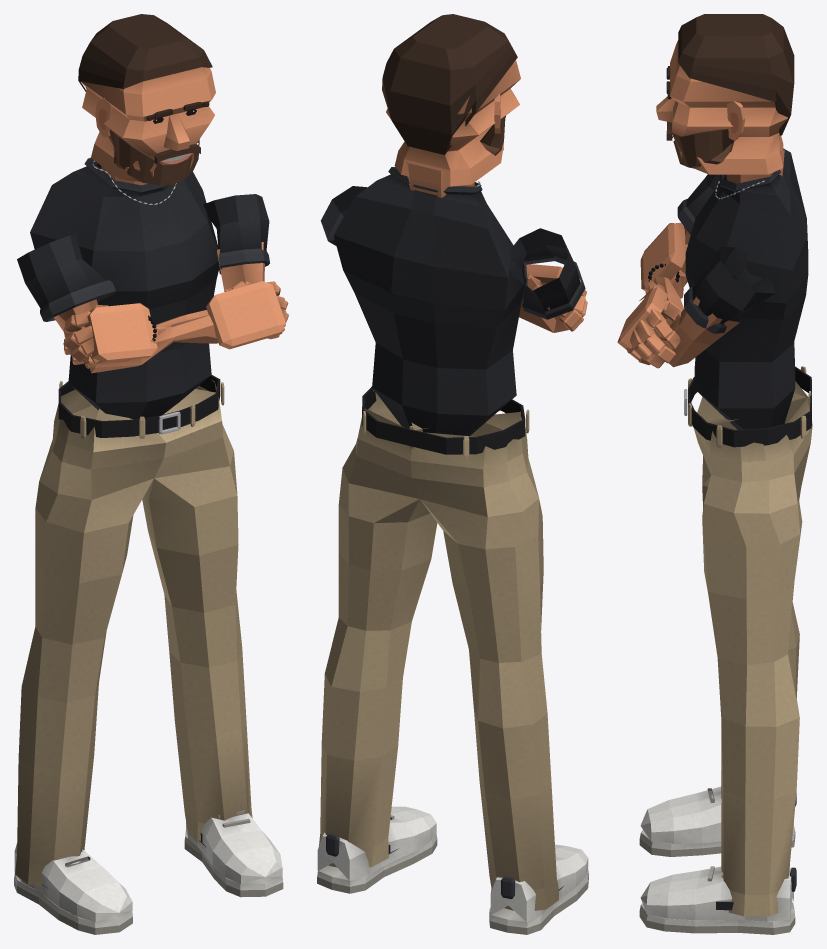
File: nitsan.glb
3 views of the same model, side by side, from view 1: azimuth 30°, elevation 25°; view 2: azimuth 150°, elevation 25°; view 3: azimuth 270°, elevation 25° (orthographic).
Visible parts, largest first — view 1: cloth, skin, body, hair; view 2: cloth, body, hair, skin; view 3: cloth, skin, body, hair.
Boxes of the visible parts, left/top/right/bottom form: cloth: left=15, top=157, right=269, bottom=887; skin: left=54, top=67, right=288, bottom=373; body: left=14, top=375, right=283, bottom=934; hair: left=78, top=14, right=212, bottom=185; cloth: left=319, top=167, right=585, bottom=910; body: left=317, top=386, right=588, bottom=934; hair: left=382, top=14, right=517, bottom=155; skin: left=386, top=60, right=587, bottom=332; cloth: left=677, top=148, right=812, bottom=916; skin: left=617, top=40, right=787, bottom=368; body: left=639, top=366, right=811, bottom=934; hair: left=666, top=14, right=794, bottom=168.
Size of the model in its own units: 0.5518 by 1.9 by 0.3927.
7 materials, 4 textured.
